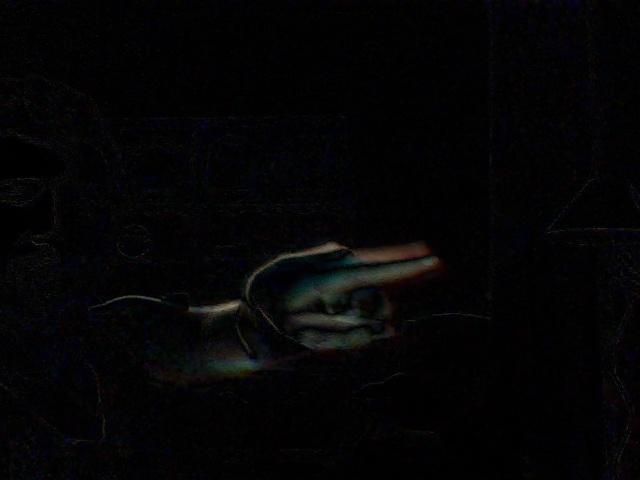hand_po: (248, 215, 477, 355)
